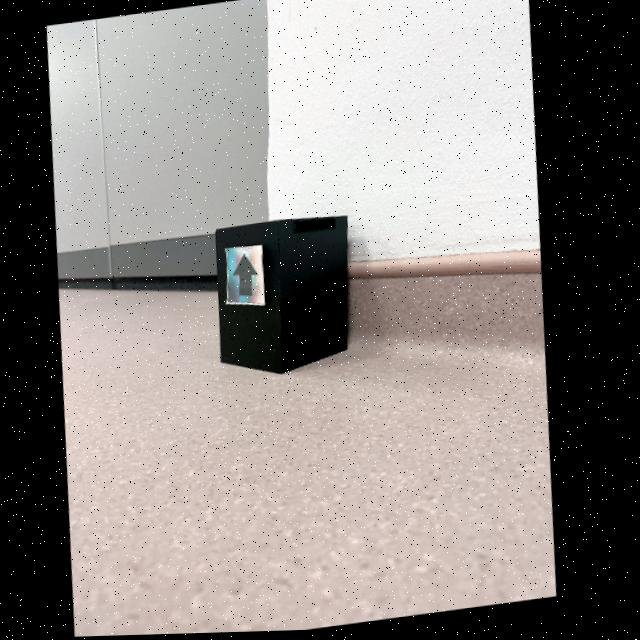UP: (236, 255, 261, 297)
